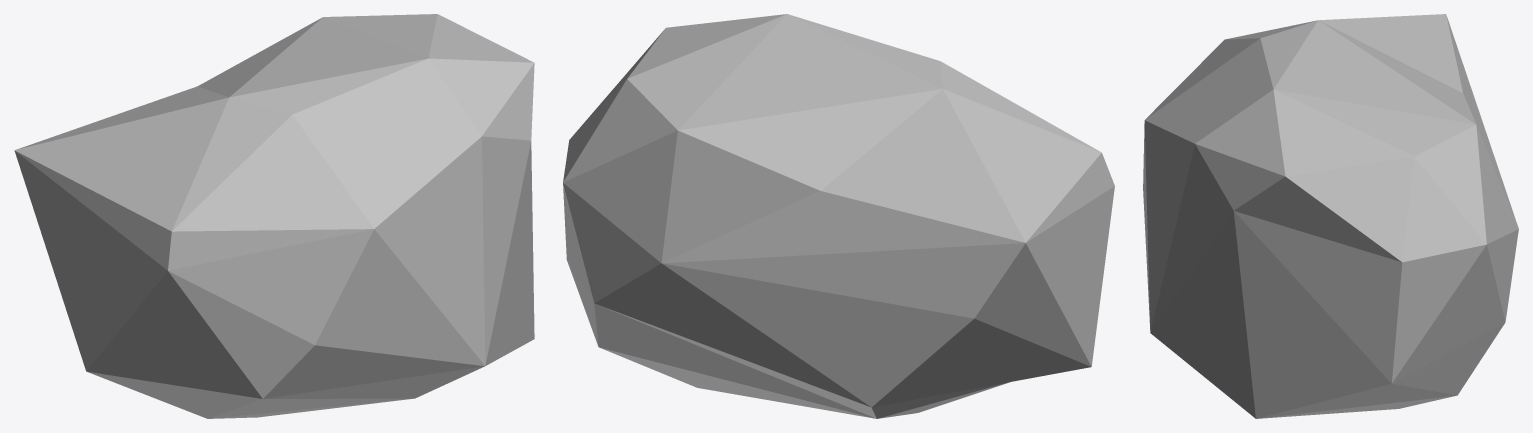
The model's file is Bush_03.fbx.
3 views of the same model, side by side, from view 1: azimuth 30°, elevation 25°; view 2: azimuth 150°, elevation 25°; view 3: azimuth 270°, elevation 25° (orthographic). The views are drawn at different scales.
Visible parts, largest first — view 1: Bush_03; view 2: Bush_03; view 3: Bush_03.
Part boxes in pixels (x1,y1,x2,y2): Bush_03: [14, 14, 534, 418]; Bush_03: [563, 14, 1114, 418]; Bush_03: [1143, 14, 1518, 418].
Size of the model in its own units: 1.98 by 1.34 by 1.41.
